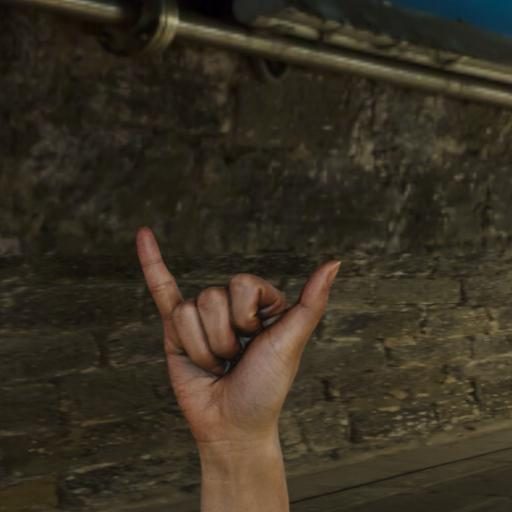Y: (130, 222, 350, 435)
